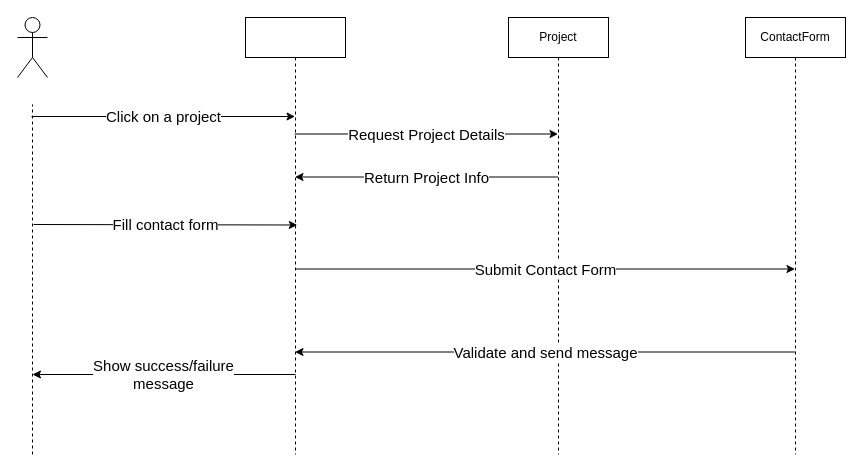
This 863x473 diagram has some shape labels left out. Each missing label, with the box of its shape:
Portfolio Website: (244, 16, 346, 454)
User: (16, 16, 48, 78)
